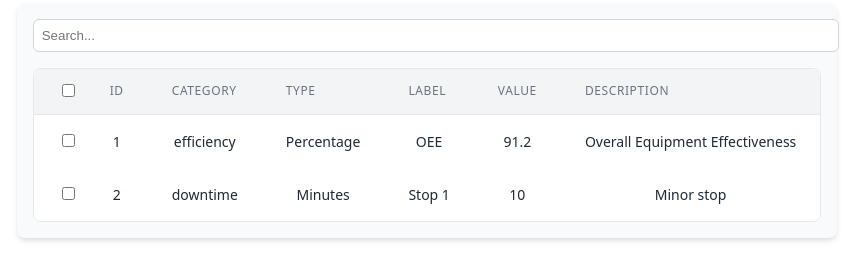
Test: filters data with search
Type "OEE" into the field with placeholder "Search...".
click(436, 35); type("OEE")  # box [33,18,839,52]
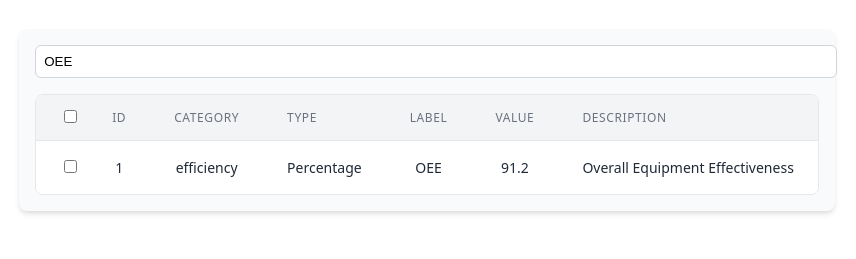
Expected: the text "OEE" is shown, [386,140,471,194]
Expected: the text "Stop 1" is gone
